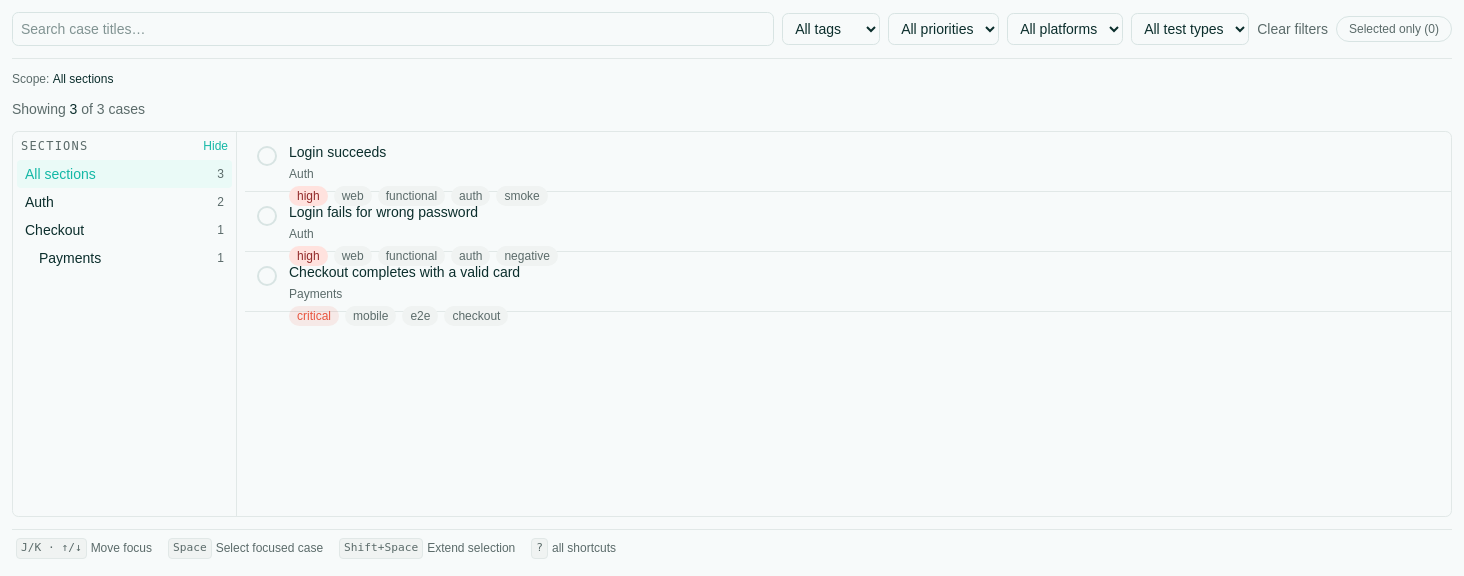
Test case: CasePicker resizable Sections rail (add-resizable-library-tree) › hides the resize handle once the rail is collapsed
The width and height of the screenshot is (1464, 576).
Click the button "Hide" at (216, 146), box [203,138,228,154]
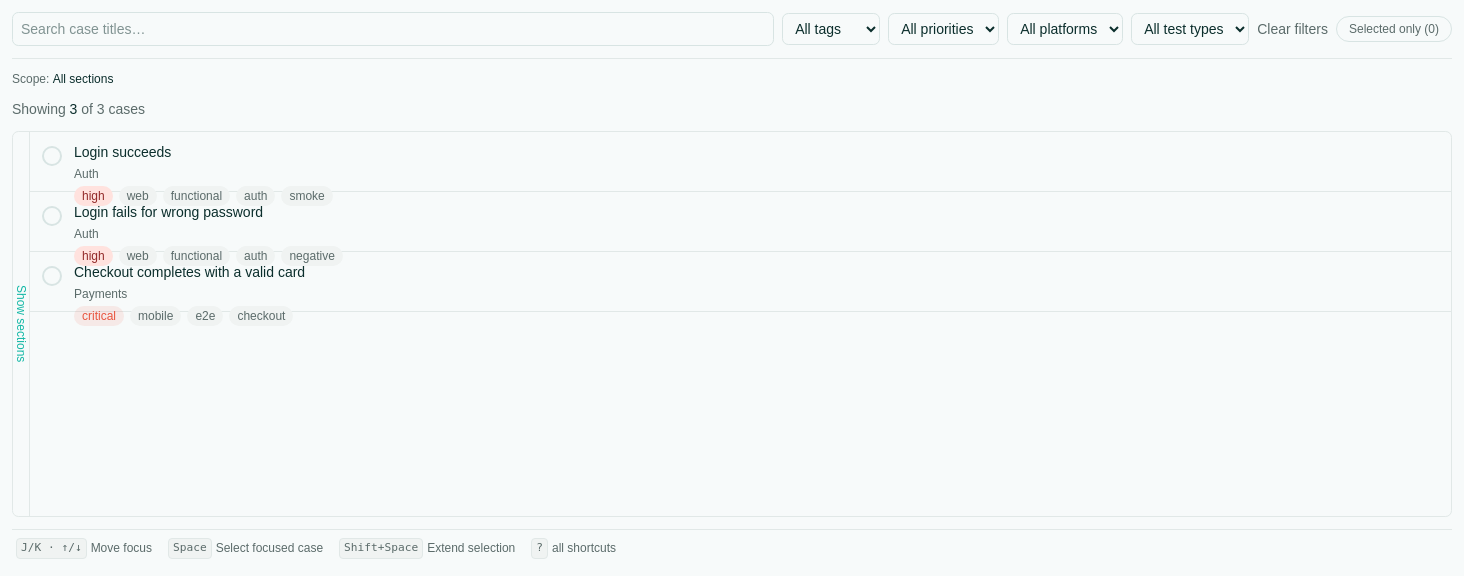
Expected: the element "resize section tree" is gone
